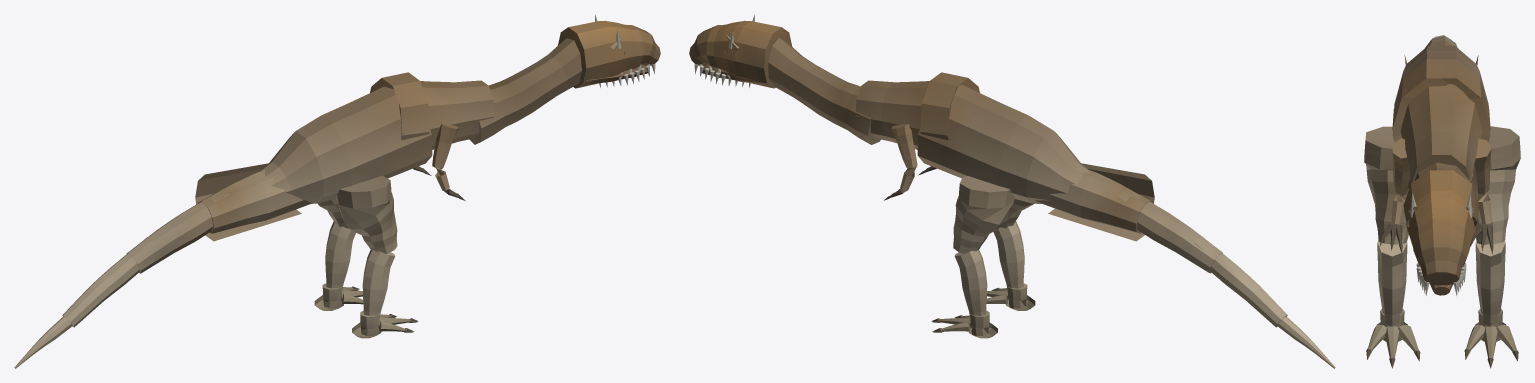
The model's file is allo.glb.
The picture shows the model from 3 angles, left to right: view 1: azimuth 30°, elevation 25°; view 2: azimuth 150°, elevation 25°; view 3: azimuth 270°, elevation 25°; orthographic projection. The views are drawn at different scales.
Parts seen in each view (by area): view 1: bodym, neckm, headm, tailm1, thighmR, tailm2, tailm3, shinmR, shinmL, hipm, armmR, tailm4 (+1 smaller); view 2: bodym, neckm, headm, tailm1, thighmL, tailm2, tailm3, shinmL, shinmR, hipm, armmL, tailm4 (+1 smaller); view 3: bodym, headm, thighmL, thighmR, shinmR, shinmL, armmL, armmR, footmL, footmR, neckm, teethUm (+5 smaller).
Boxes of the visible parts, x1=… form: bodym: x1=259, y1=72, x2=494, y2=203; neckm: x1=469, y1=38, x2=581, y2=144; headm: x1=558, y1=21, x2=660, y2=88; tailm1: x1=197, y1=170, x2=312, y2=233; thighmR: x1=336, y1=175, x2=397, y2=253; tailm2: x1=126, y1=188, x2=229, y2=273; tailm3: x1=62, y1=236, x2=153, y2=327; shinmR: x1=360, y1=250, x2=395, y2=335; shinmL: x1=322, y1=221, x2=355, y2=308; hipm: x1=195, y1=163, x2=301, y2=241; armmR: x1=432, y1=123, x2=458, y2=190; tailm4: x1=14, y1=316, x2=72, y2=368; bodym: x1=855, y1=72, x2=1090, y2=203; neckm: x1=768, y1=38, x2=880, y2=144; headm: x1=689, y1=21, x2=792, y2=88; tailm1: x1=1035, y1=169, x2=1150, y2=233; thighmL: x1=953, y1=176, x2=1014, y2=253; tailm2: x1=1118, y1=188, x2=1222, y2=273; tailm3: x1=1194, y1=236, x2=1287, y2=327; shinmL: x1=954, y1=250, x2=989, y2=335; shinmR: x1=993, y1=221, x2=1027, y2=308; hipm: x1=1048, y1=163, x2=1154, y2=241; armmL: x1=891, y1=123, x2=917, y2=190; tailm4: x1=1277, y1=316, x2=1335, y2=368; bodym: x1=1392, y1=45, x2=1490, y2=183; headm: x1=1403, y1=170, x2=1479, y2=285; thighmL: x1=1473, y1=126, x2=1520, y2=244; thighmR: x1=1364, y1=126, x2=1408, y2=244; shinmR: x1=1377, y1=240, x2=1407, y2=341; shinmL: x1=1475, y1=241, x2=1505, y2=341; armmL: x1=1473, y1=138, x2=1491, y2=224; armmR: x1=1391, y1=138, x2=1410, y2=224; footmL: x1=1465, y1=322, x2=1517, y2=366; footmR: x1=1367, y1=322, x2=1418, y2=366; neckm: x1=1407, y1=162, x2=1473, y2=189; teethUm: x1=1416, y1=263, x2=1466, y2=295.
Size of the model in its own units: 10.32 by 3.65 by 1.66.
